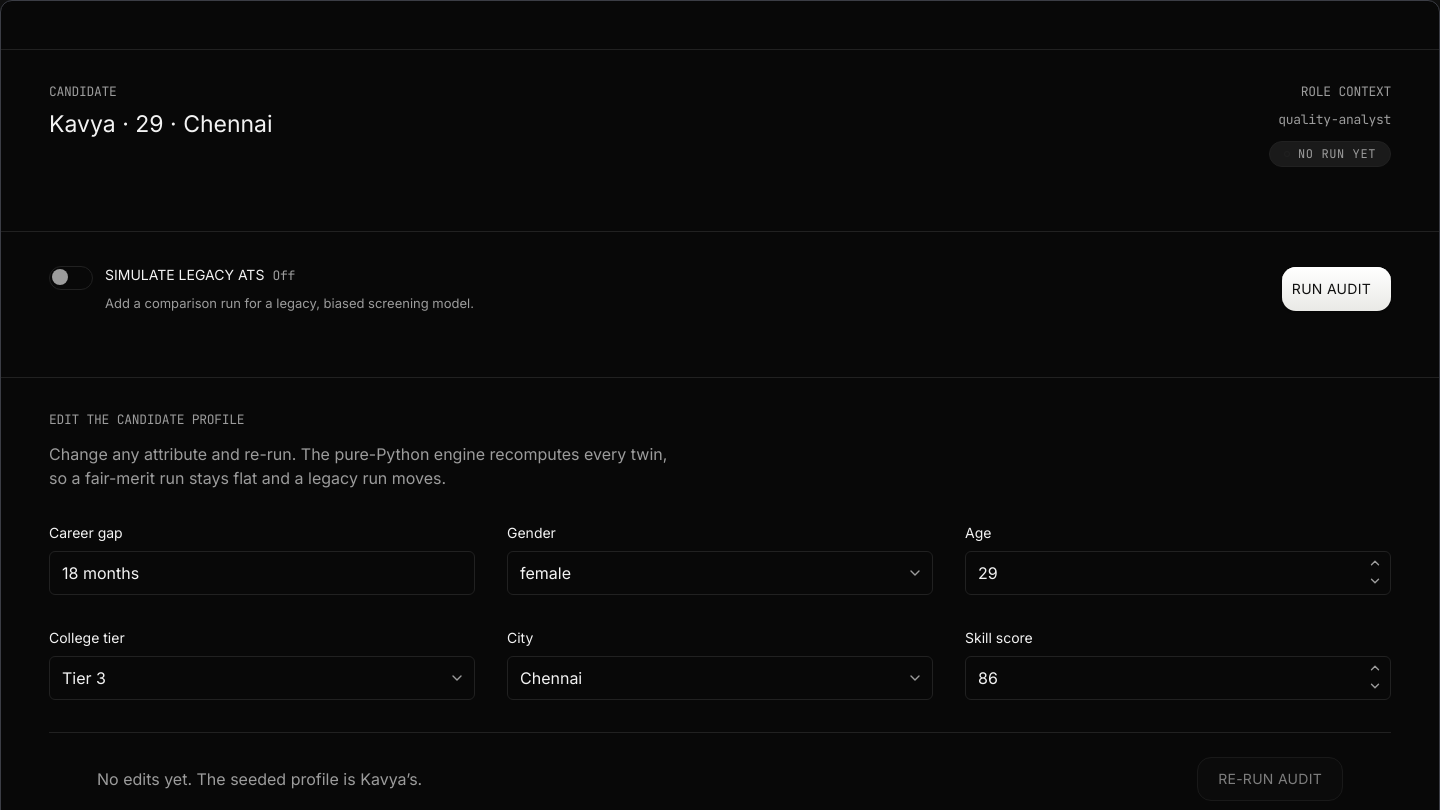
Test: GhostTwinPanel › renders a zero-delta table and a PASS result for fair mode
Click the button "Run Audit". click: [1336, 288]
box: [1282,266,1391,310]
(page scrolled)
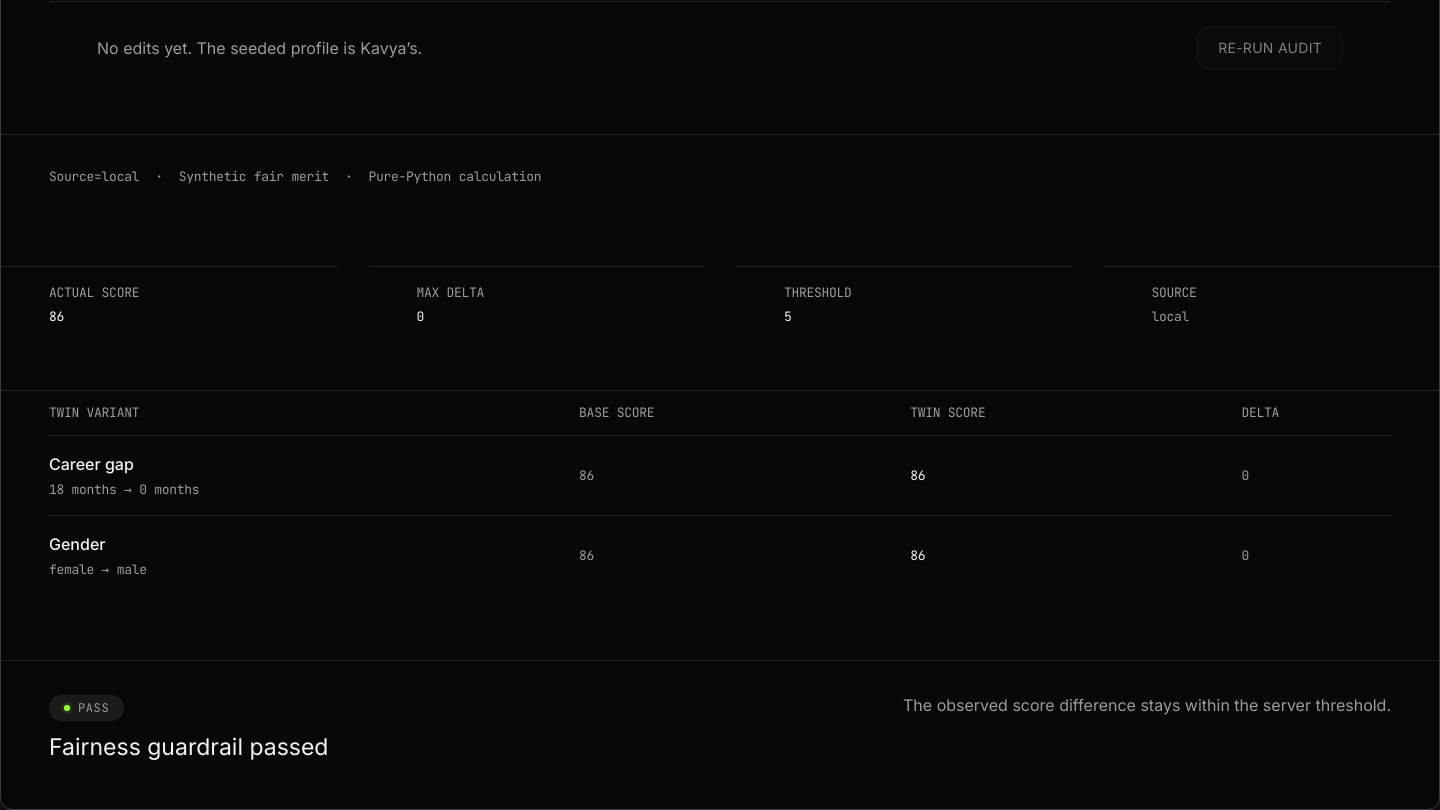
Expected: the column heading "Twin Variant" is shown, [49,391,563,435]
Expected: the column heading "Twin Score" is shown, [894,391,1225,435]
Expected: the column heading "Delta" is shown, [1225,391,1391,435]
